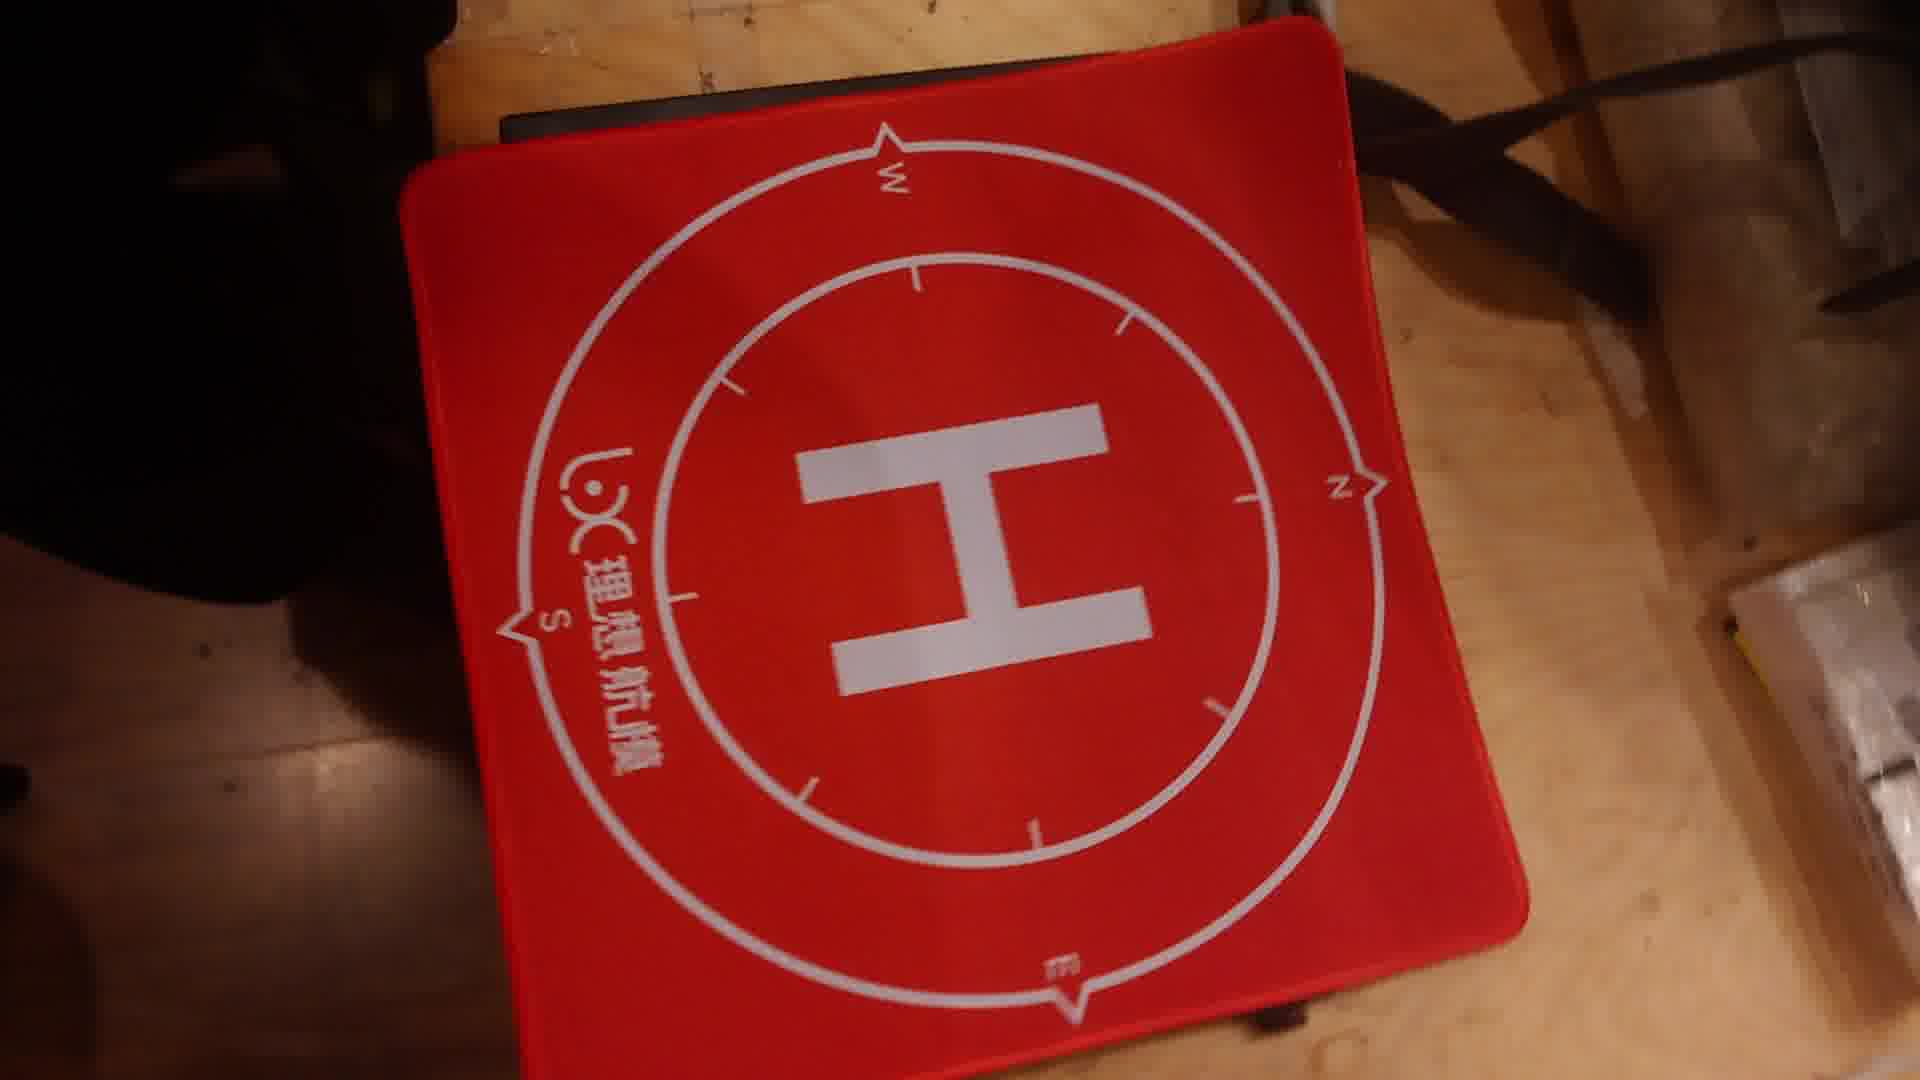H: (796, 398, 1154, 698)
